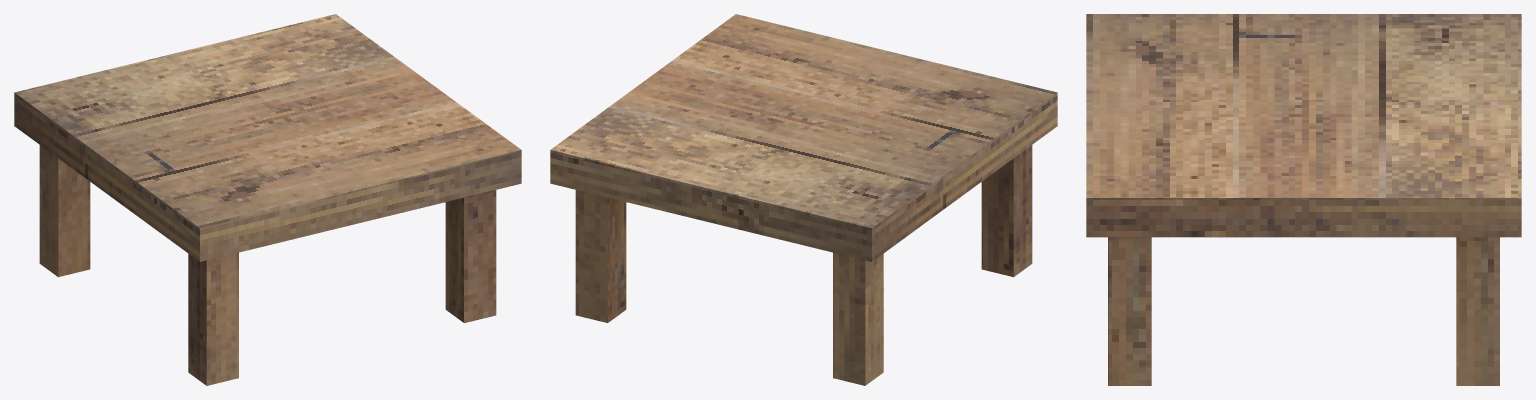
File: shit ass table.glb
3 renders of one model, left to right at view 1: azimuth 30°, elevation 25°; view 2: azimuth 150°, elevation 25°; view 3: azimuth 270°, elevation 25°, orthographic. The views are drawn at different scales.
Visible parts, largest first — view 1: Cube; view 2: Cube; view 3: Cube.
Boxes of the visible parts, x1,y1,x2,y2 form: Cube: (14,14,521,385); Cube: (550,14,1057,385); Cube: (1086,14,1521,385).
Bounding box in the file's own units: 2 × 1 × 2.
Materials: 1 (1 with a texture image).
